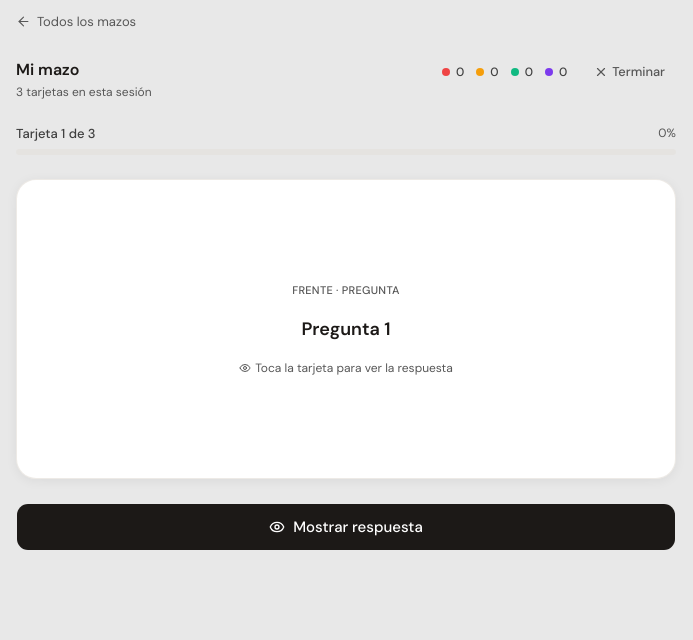
Test case: FlashcardPlayer › rating a card tallies it, advances, and shows the next card unflipped
The image size is (693, 640).
Click the button "Mostrar respuesta".
click(346, 527)  # box [16, 503, 676, 551]
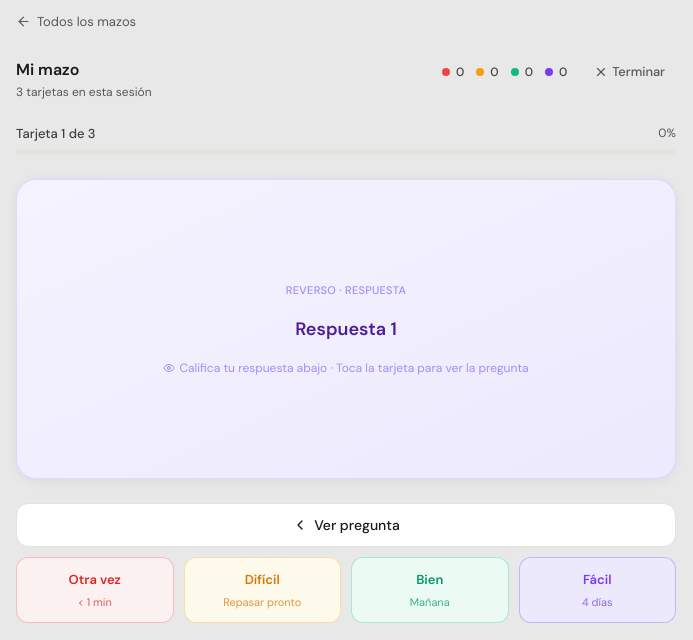
Click the button with test id "rate-hard".
click(262, 590)  # box [184, 557, 341, 623]
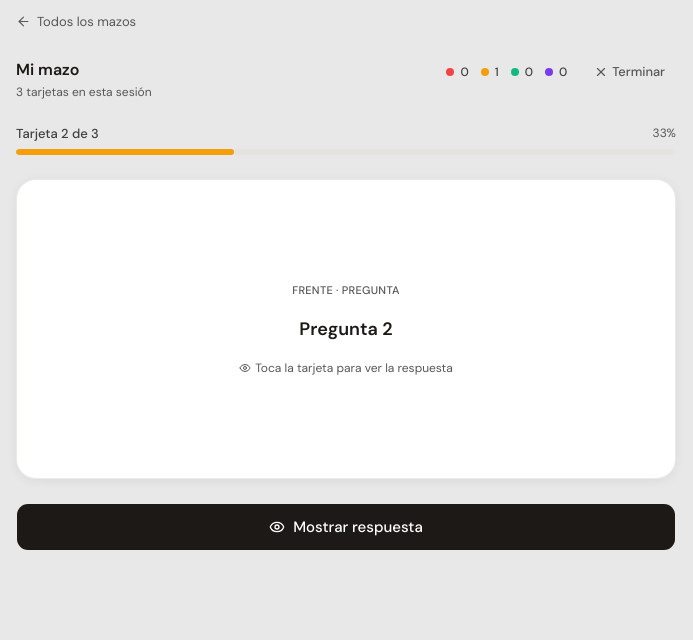
Now the text "Tarjeta 2 de 3" is shown, box [16, 124, 99, 143]
Now the text "33%" is shown, box [653, 125, 676, 141]
